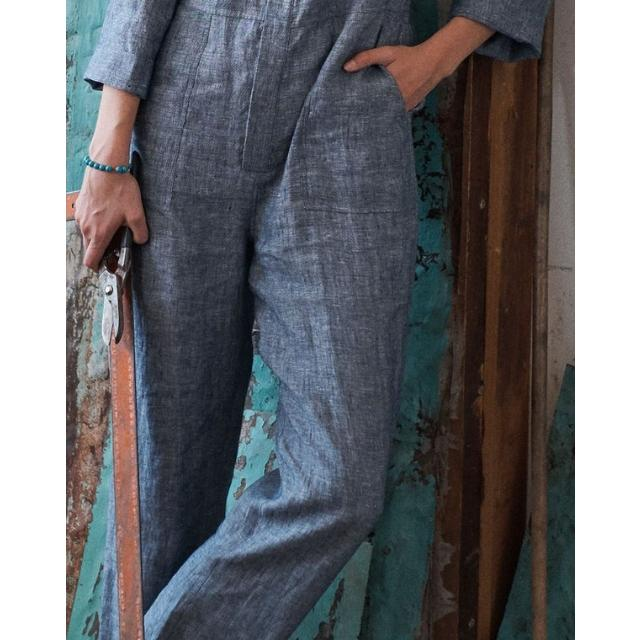linen: (110, 0, 448, 640)
